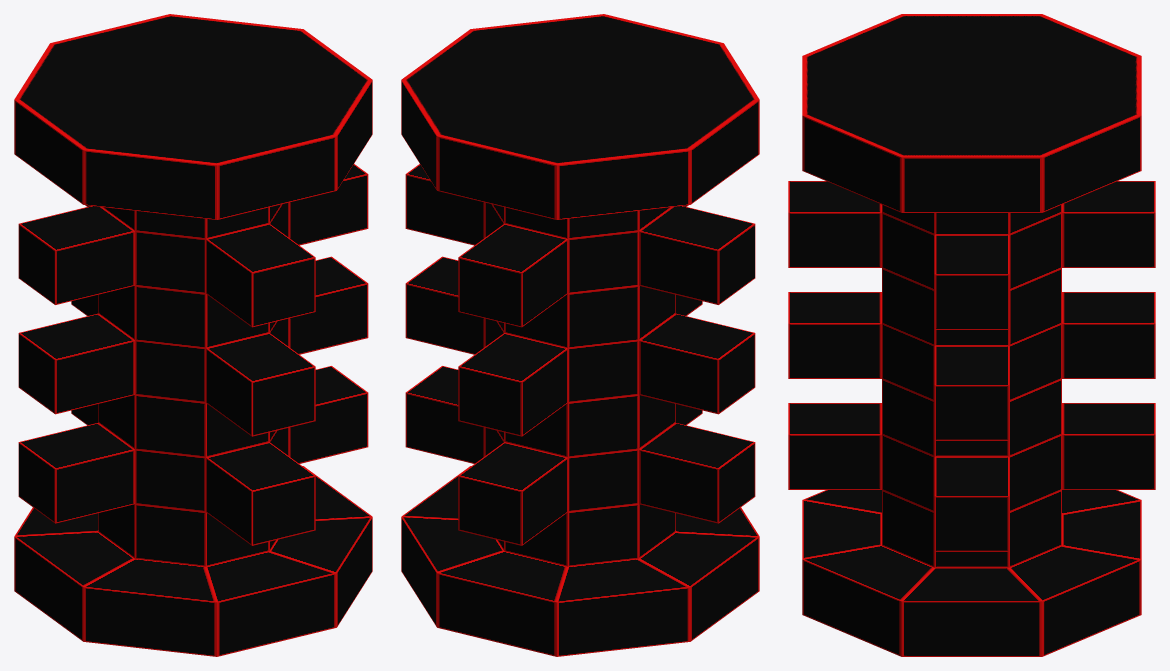
Rendered from TurnstileTypeA.fbx.
3 views of the same model, side by side, from view 1: azimuth 30°, elevation 25°; view 2: azimuth 150°, elevation 25°; view 3: azimuth 270°, elevation 25° (orthographic).
Parts seen in each view (by area): view 1: pCylinder5; view 2: pCylinder5; view 3: pCylinder5.
Part boxes in pixels (<box>): pCylinder5: <box>14,14,372,656</box>; pCylinder5: <box>401,14,759,656</box>; pCylinder5: <box>788,14,1155,656</box>.
Size of the model in its own units: 6 by 9 by 6.
1 material, 1 textured.
